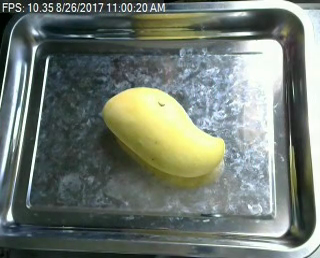Mango: (98, 84, 230, 178)
